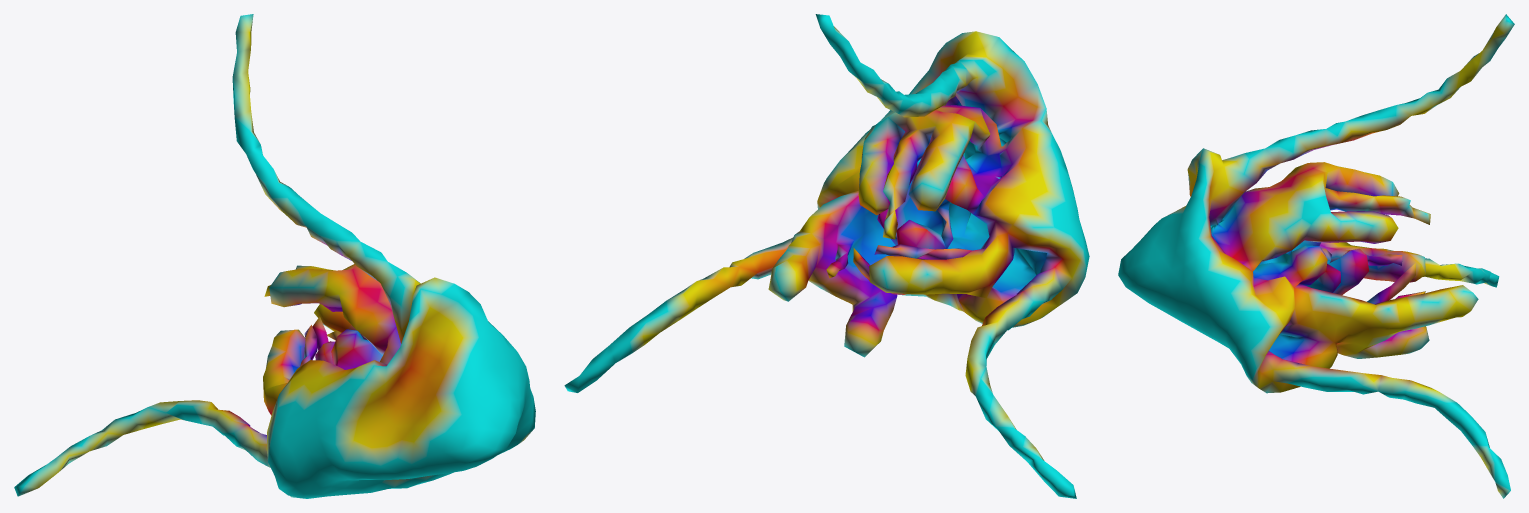
The model's file is jelly_84.gltf.
3 renders of one model, left to right at view 1: azimuth 30°, elevation 25°; view 2: azimuth 150°, elevation 25°; view 3: azimuth 270°, elevation 25°, orthographic. The views are drawn at different scales.
Parts seen in each view (by area): view 1: jellysquid3; view 2: jellysquid3; view 3: jellysquid3.
Boxes of the visible parts, x1,y1,x2,y2 form: jellysquid3: (14,14,535,498); jellysquid3: (564,14,1089,498); jellysquid3: (1118,14,1514,498).
Size of the model in its own units: 12.49 by 10.49 by 10.05.
